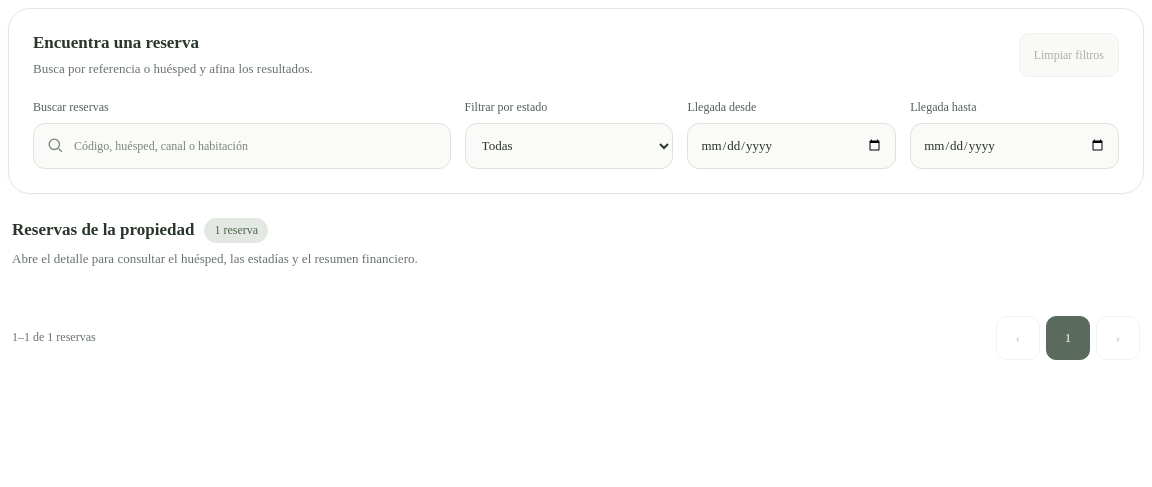
Test: ReservationList › shows an empty result message when search matches nothing
The width and height of the screenshot is (1152, 487).
Type "zzz" into the search field at (242, 146), box [33,123,451,169]
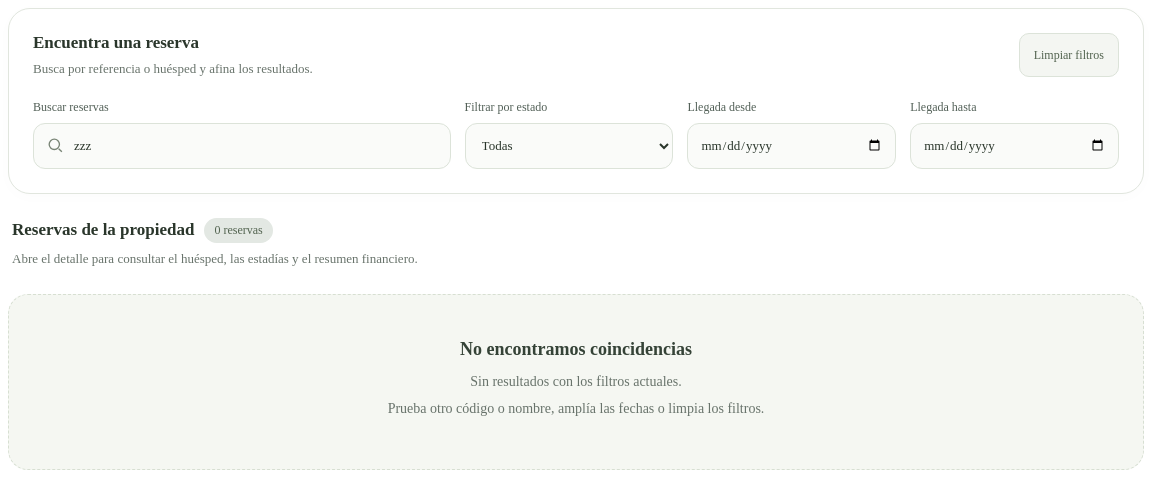
Result: the text "Sin resultados con los filtros actuales." is shown at [470,374,682,389]
